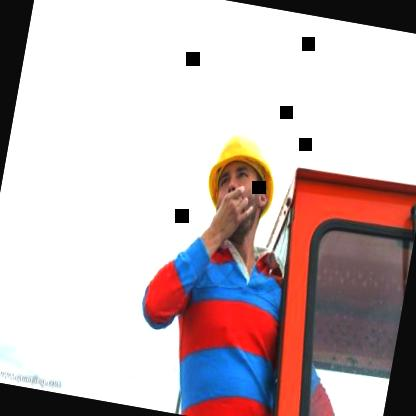helmet: (198, 122, 285, 246)
